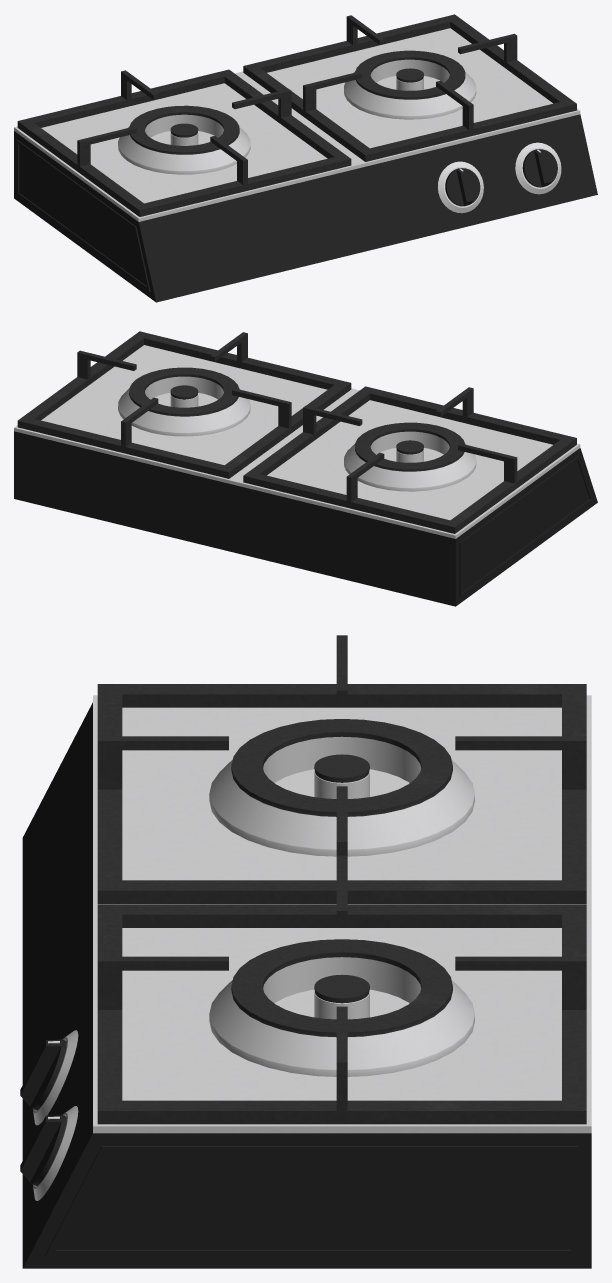
Rendered from GasStove01.fbx.
3 views of the same model, one above another, from view 1: azimuth 30°, elevation 25°; view 2: azimuth 150°, elevation 25°; view 3: azimuth 270°, elevation 25° (orthographic). The views are drawn at different scales.
Visible parts, largest first — view 1: GasStove01, GasStove01_Knob01, GasStove01_Knob02; view 2: GasStove01; view 3: GasStove01, GasStove01_Knob02, GasStove01_Knob01.
Part boxes in pixels (x1,y1,x2,y2): GasStove01: (14, 14, 597, 302); GasStove01_Knob01: (445, 168, 480, 206); GasStove01_Knob02: (522, 149, 557, 187); GasStove01: (14, 331, 597, 606); GasStove01: (22, 635, 591, 1268); GasStove01_Knob02: (20, 1114, 66, 1185); GasStove01_Knob01: (20, 1038, 66, 1110).
Size of the model in its own units: 58.98 by 12.97 by 32.87.
